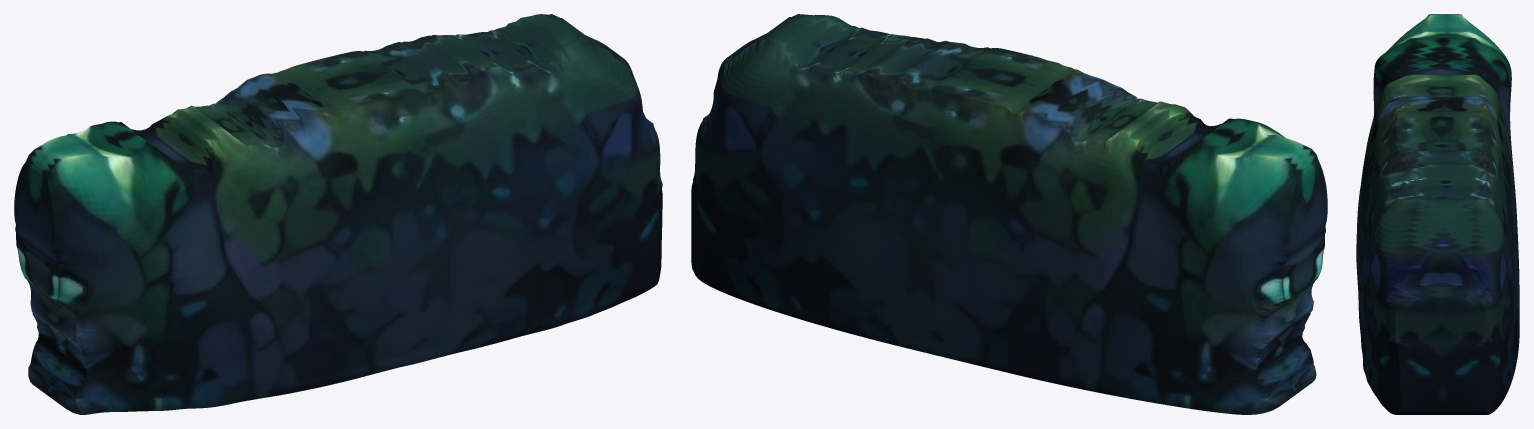
File: mossy_platform.glb
3 views of the same model, side by side, from view 1: azimuth 30°, elevation 25°; view 2: azimuth 150°, elevation 25°; view 3: azimuth 270°, elevation 25° (orthographic). The views are drawn at different scales.
Visible parts, largest first — view 1: geometry_0; view 2: geometry_0; view 3: geometry_0.
Part boxes in pixels (left/top/right/bottom): geometry_0: left=14, top=14, right=662, bottom=414; geometry_0: left=691, top=14, right=1327, bottom=414; geometry_0: left=1356, top=14, right=1519, bottom=414.
Size of the model in its own units: 6.2 by 2.45 by 1.93.
1 material, 1 textured.
